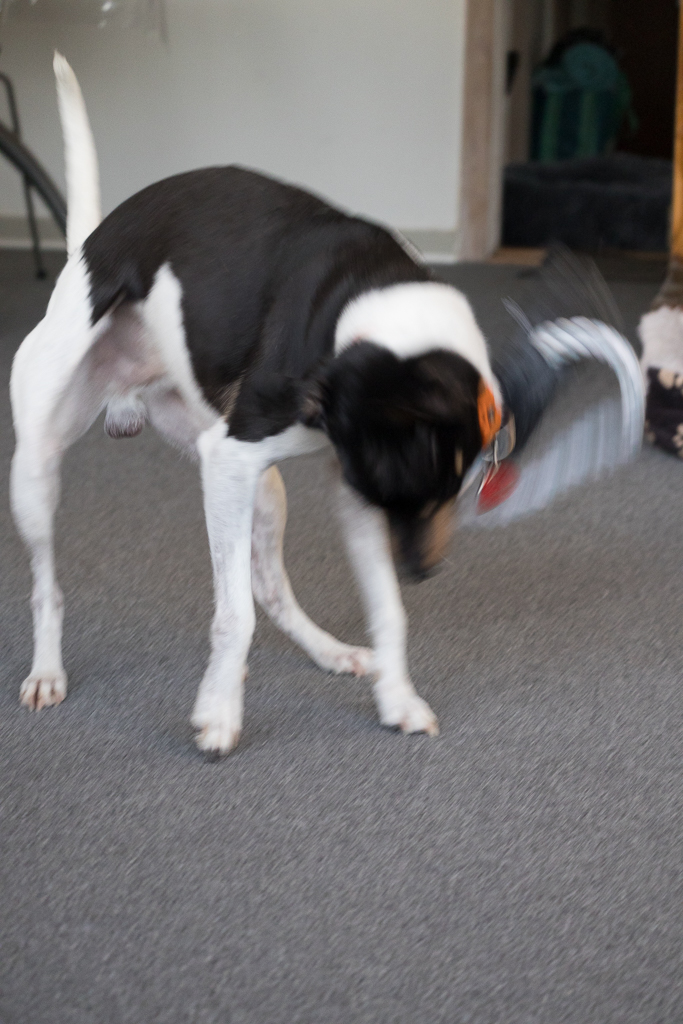Dog: (0, 44, 527, 772)
